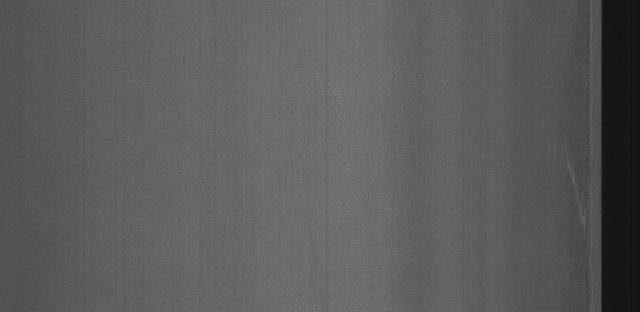silk_spot: (563, 135, 598, 243)
